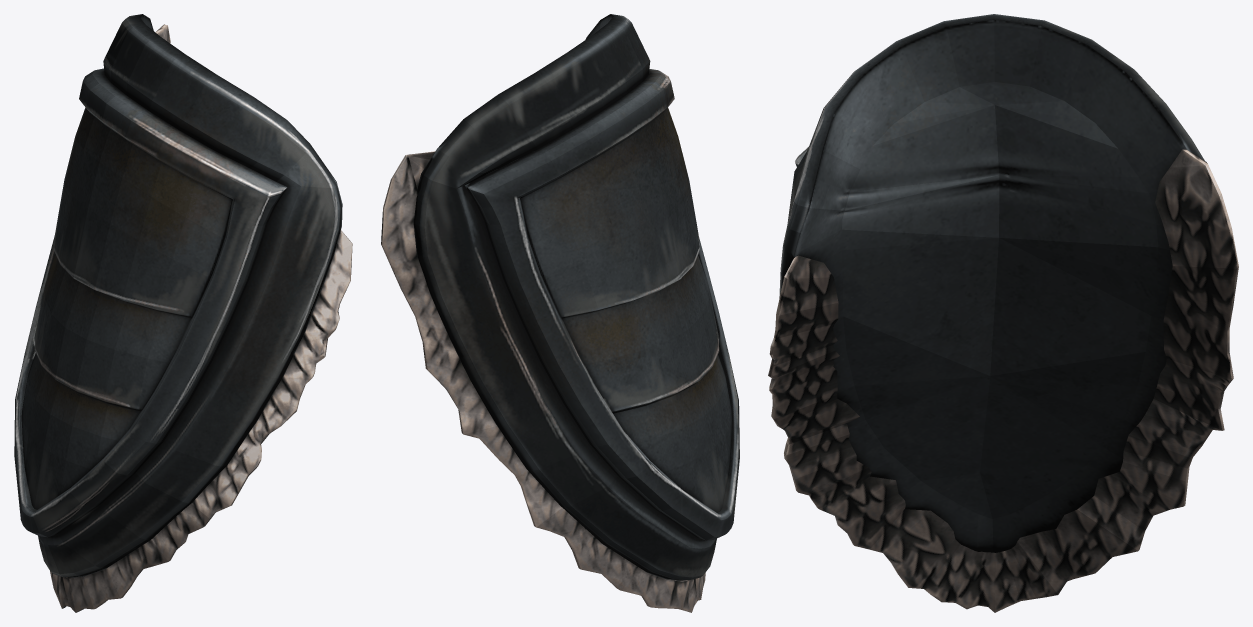
File: sm_void_human_tasset_R.gltf
The picture shows the model from 3 angles, left to right: view 1: azimuth 30°, elevation 25°; view 2: azimuth 150°, elevation 25°; view 3: azimuth 270°, elevation 25°; orthographic projection. The views are drawn at different scales.
Parts seen in each view (by area): view 1: sm_void_human_tasset_R; view 2: sm_void_human_tasset_R; view 3: sm_void_human_tasset_R.
Part boxes in pixels (x1=…): sm_void_human_tasset_R: x1=14, y1=14, x2=352, y2=612; sm_void_human_tasset_R: x1=381, y1=14, x2=739, y2=612; sm_void_human_tasset_R: x1=768, y1=14, x2=1238, y2=612.
Bounding box in the file's own units: 0.2006 × 0.4327 × 0.2844.
1 material, 1 textured.
